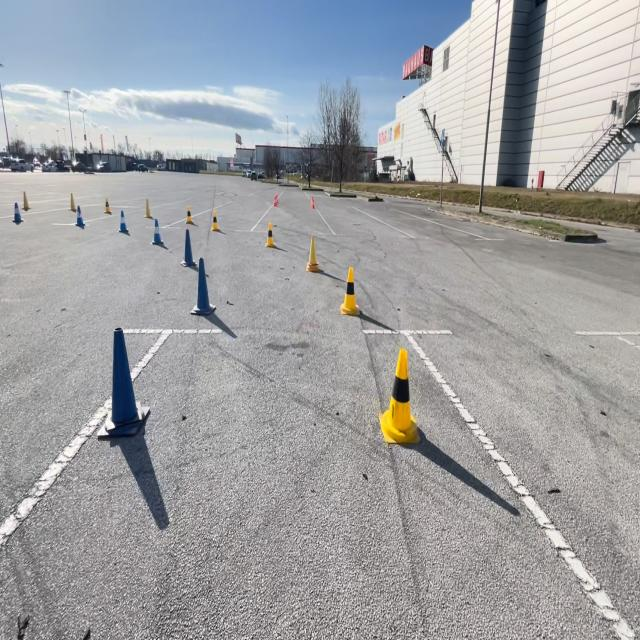blue_cone: (98, 328, 151, 441), (190, 257, 216, 315), (180, 228, 197, 268), (151, 219, 164, 245), (12, 202, 24, 222), (118, 213, 130, 233), (75, 205, 86, 226)
orange_cone: (309, 194, 317, 210), (272, 193, 279, 206)
yellow_cone: (378, 349, 420, 445), (340, 266, 360, 315), (306, 234, 320, 272), (265, 222, 276, 247), (211, 210, 220, 231), (144, 199, 153, 218), (185, 205, 193, 224), (69, 192, 77, 210), (22, 191, 30, 209), (104, 198, 112, 214)
